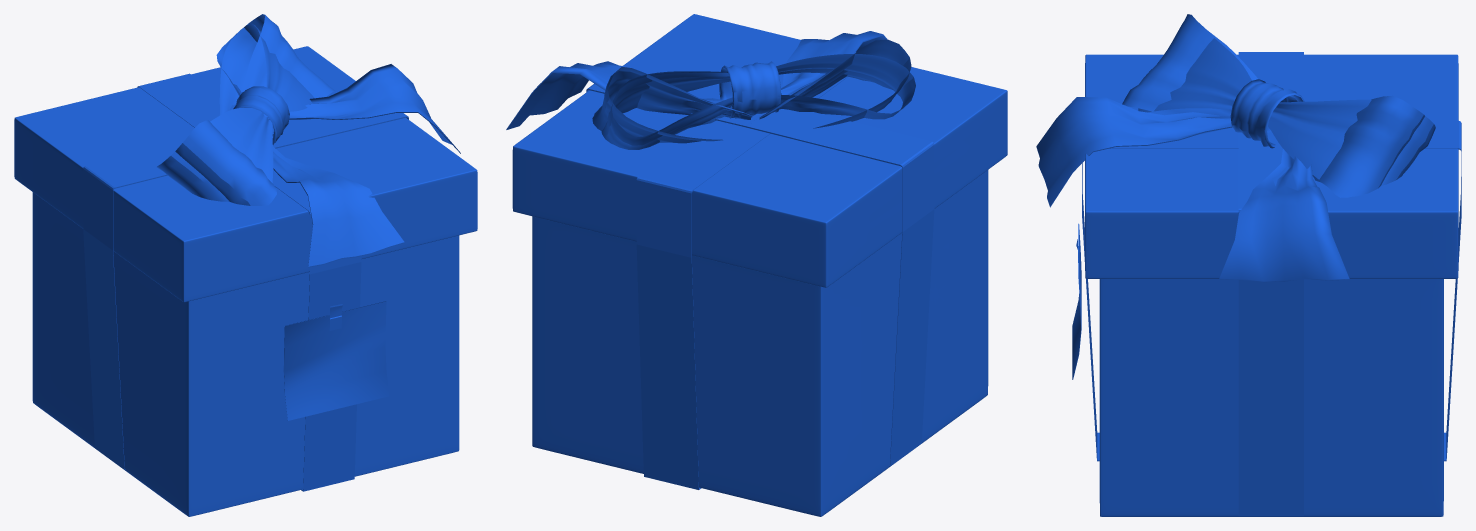
File: gift9join.glb
The picture shows the model from 3 angles, left to right: view 1: azimuth 30°, elevation 25°; view 2: azimuth 150°, elevation 25°; view 3: azimuth 270°, elevation 25°; orthographic projection. The views are drawn at different scales.
Visible parts, largest first — view 1: Plane012; view 2: Plane012; view 3: Plane012.
Boxes of the visible parts, box(x1,y1,x2,y2) form: Plane012: box(14, 14, 477, 516); Plane012: box(506, 14, 1007, 516); Plane012: box(1036, 14, 1461, 516).
Size of the model in its own units: 2.58 by 2.5 by 2.47.
